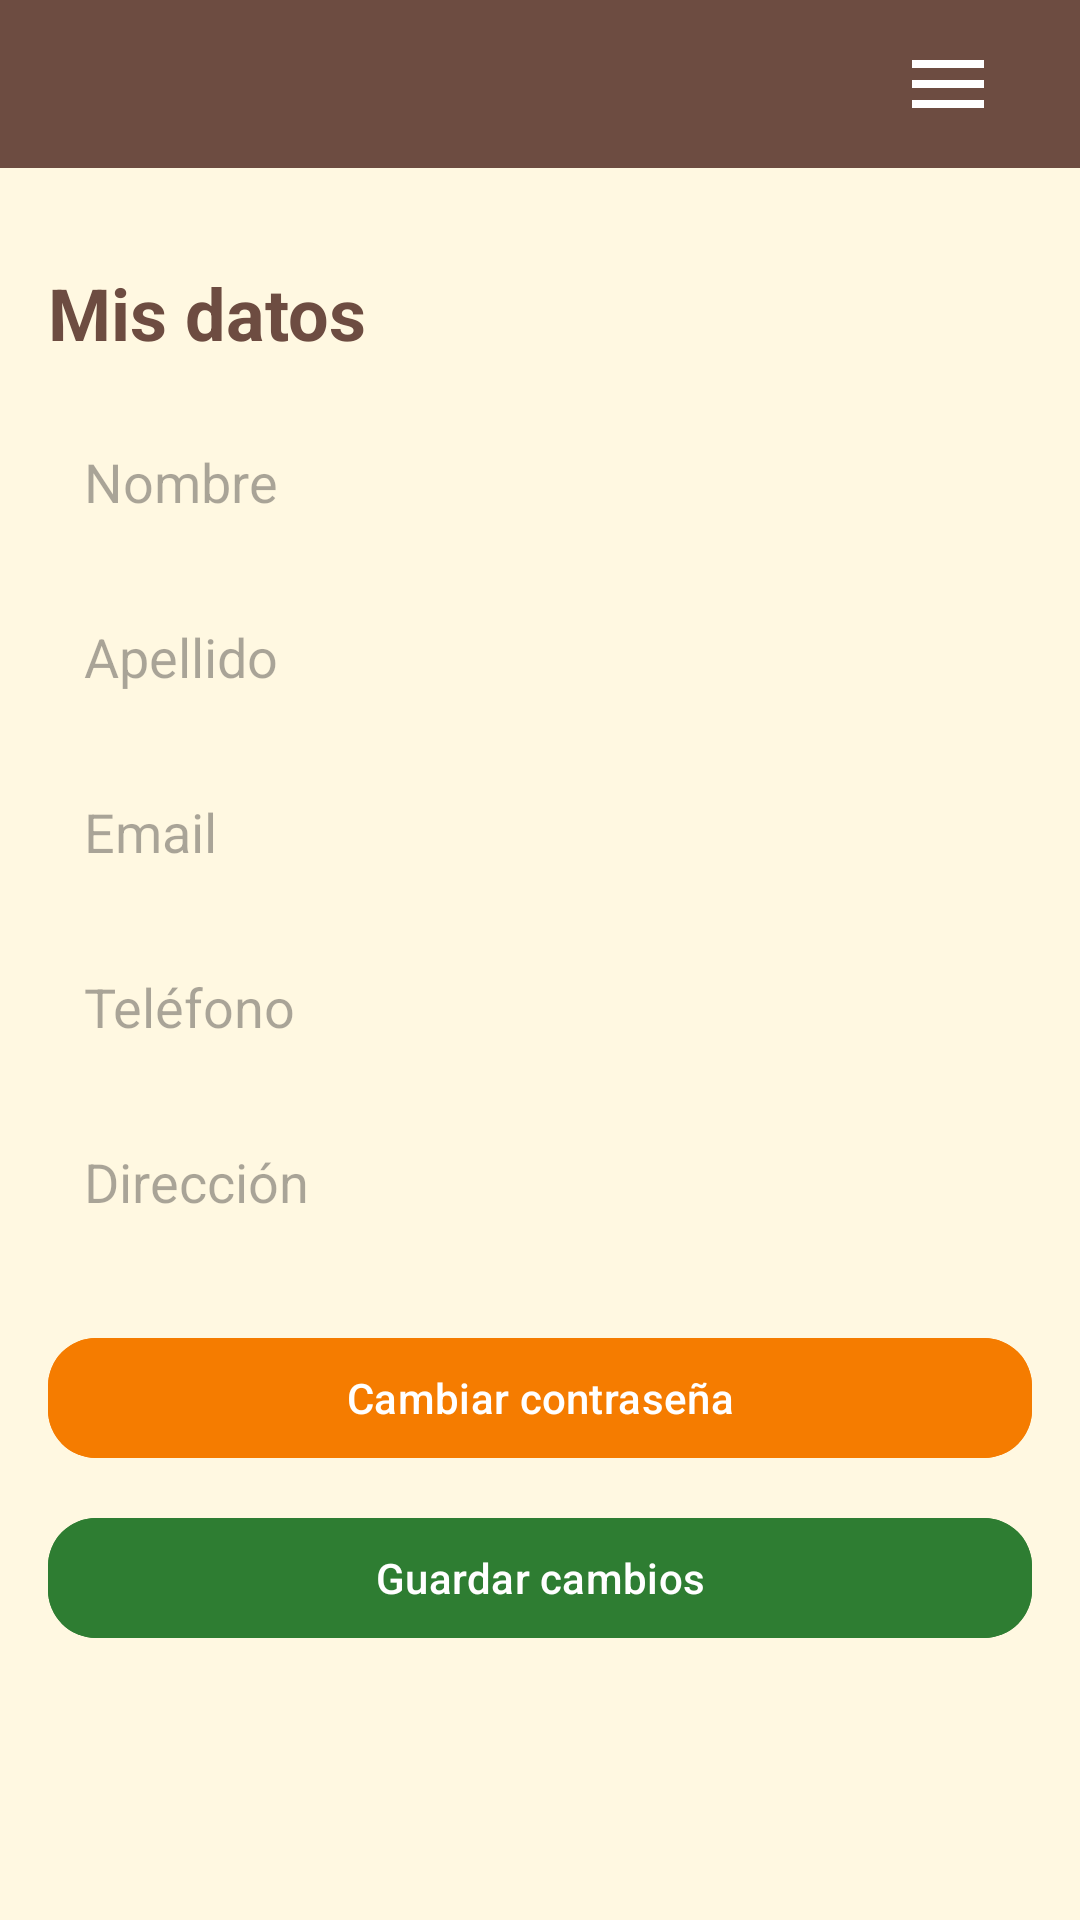

Icon click points for this 1080*1920 phone screenshot, format (x,y):
Menu: (948,84)
